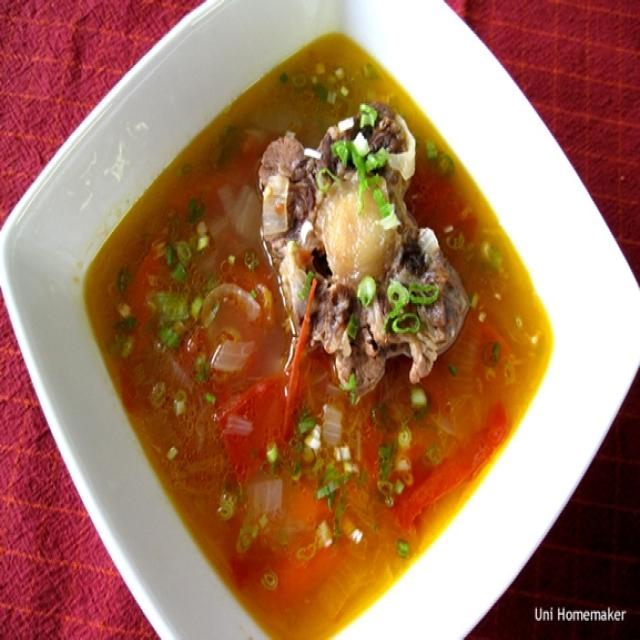汤锅炖物: (46, 18, 576, 615)
